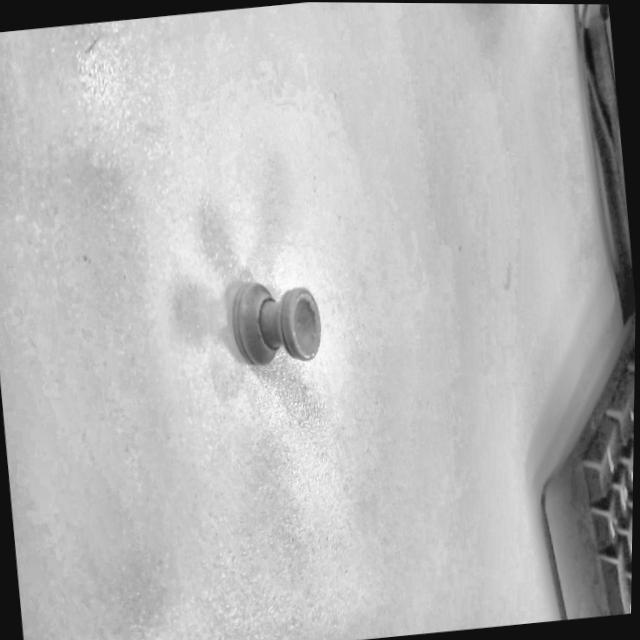white-rook: (200, 222, 342, 419)
